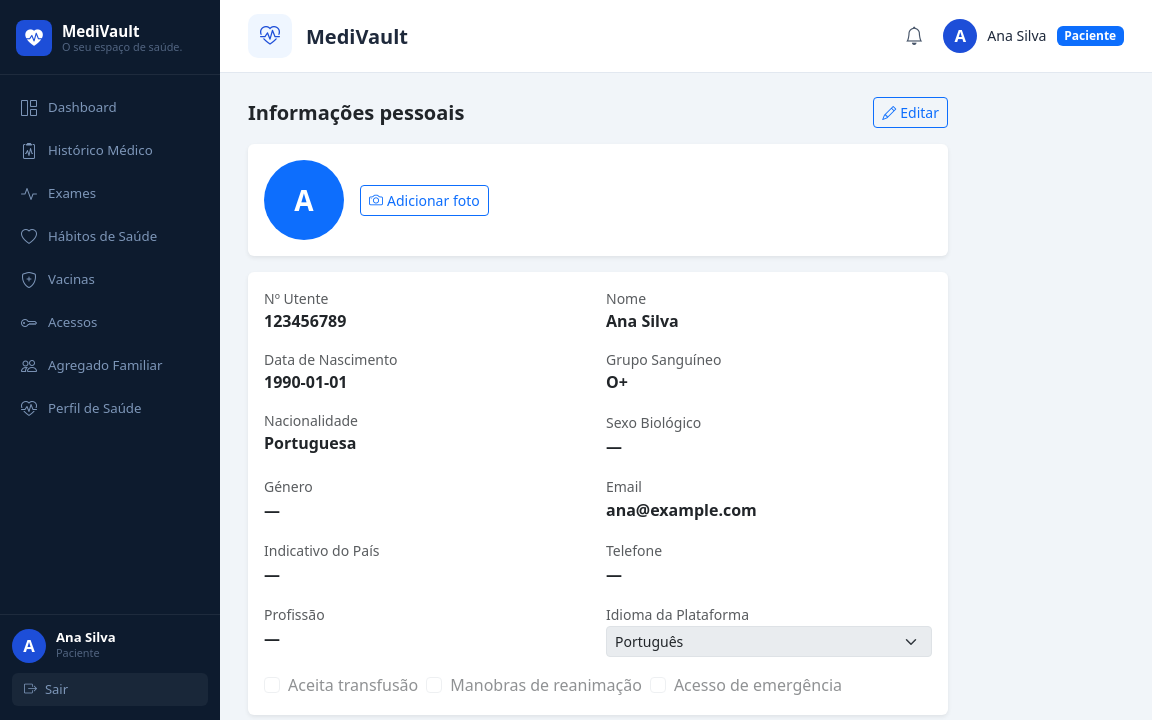
Test: ProfilePage - critical field confirmation popup › only allows changing the language while editing
Check: the dropdown is disabled, box 606,626 -> 932,657
Click the button "Editar".
click(911, 112)  # box 873,97 -> 948,128
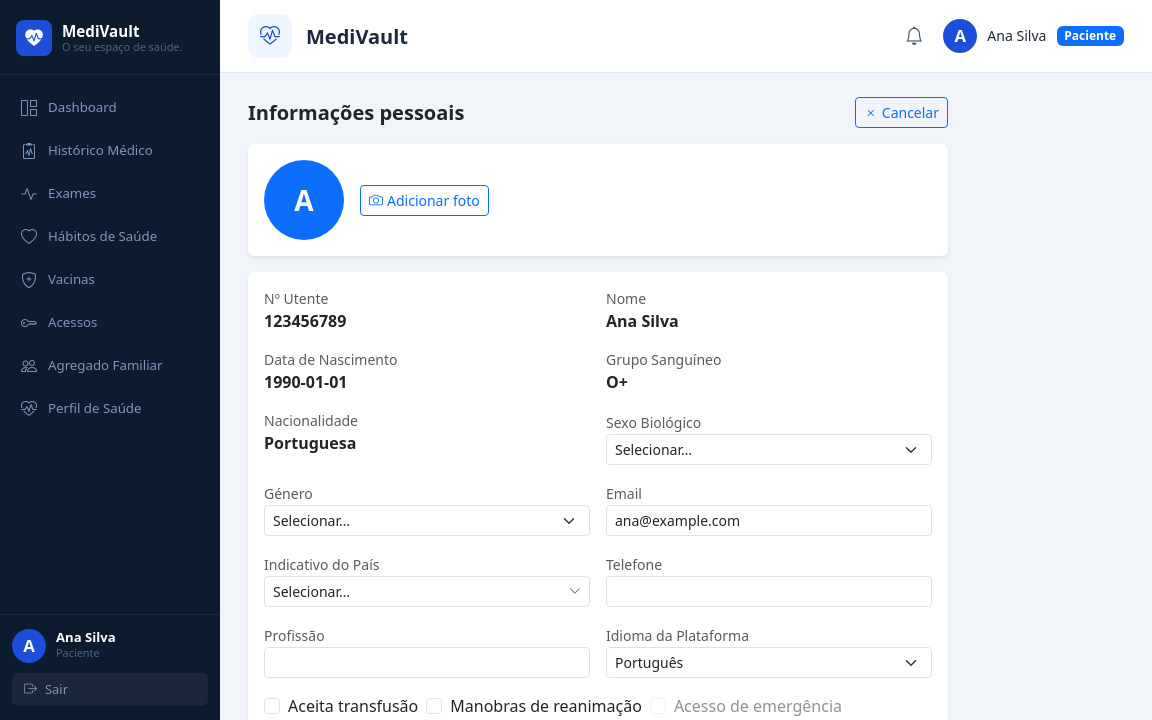
Check: the dropdown below "Idioma da Plataforma" is enabled, box 606,647 -> 932,678
